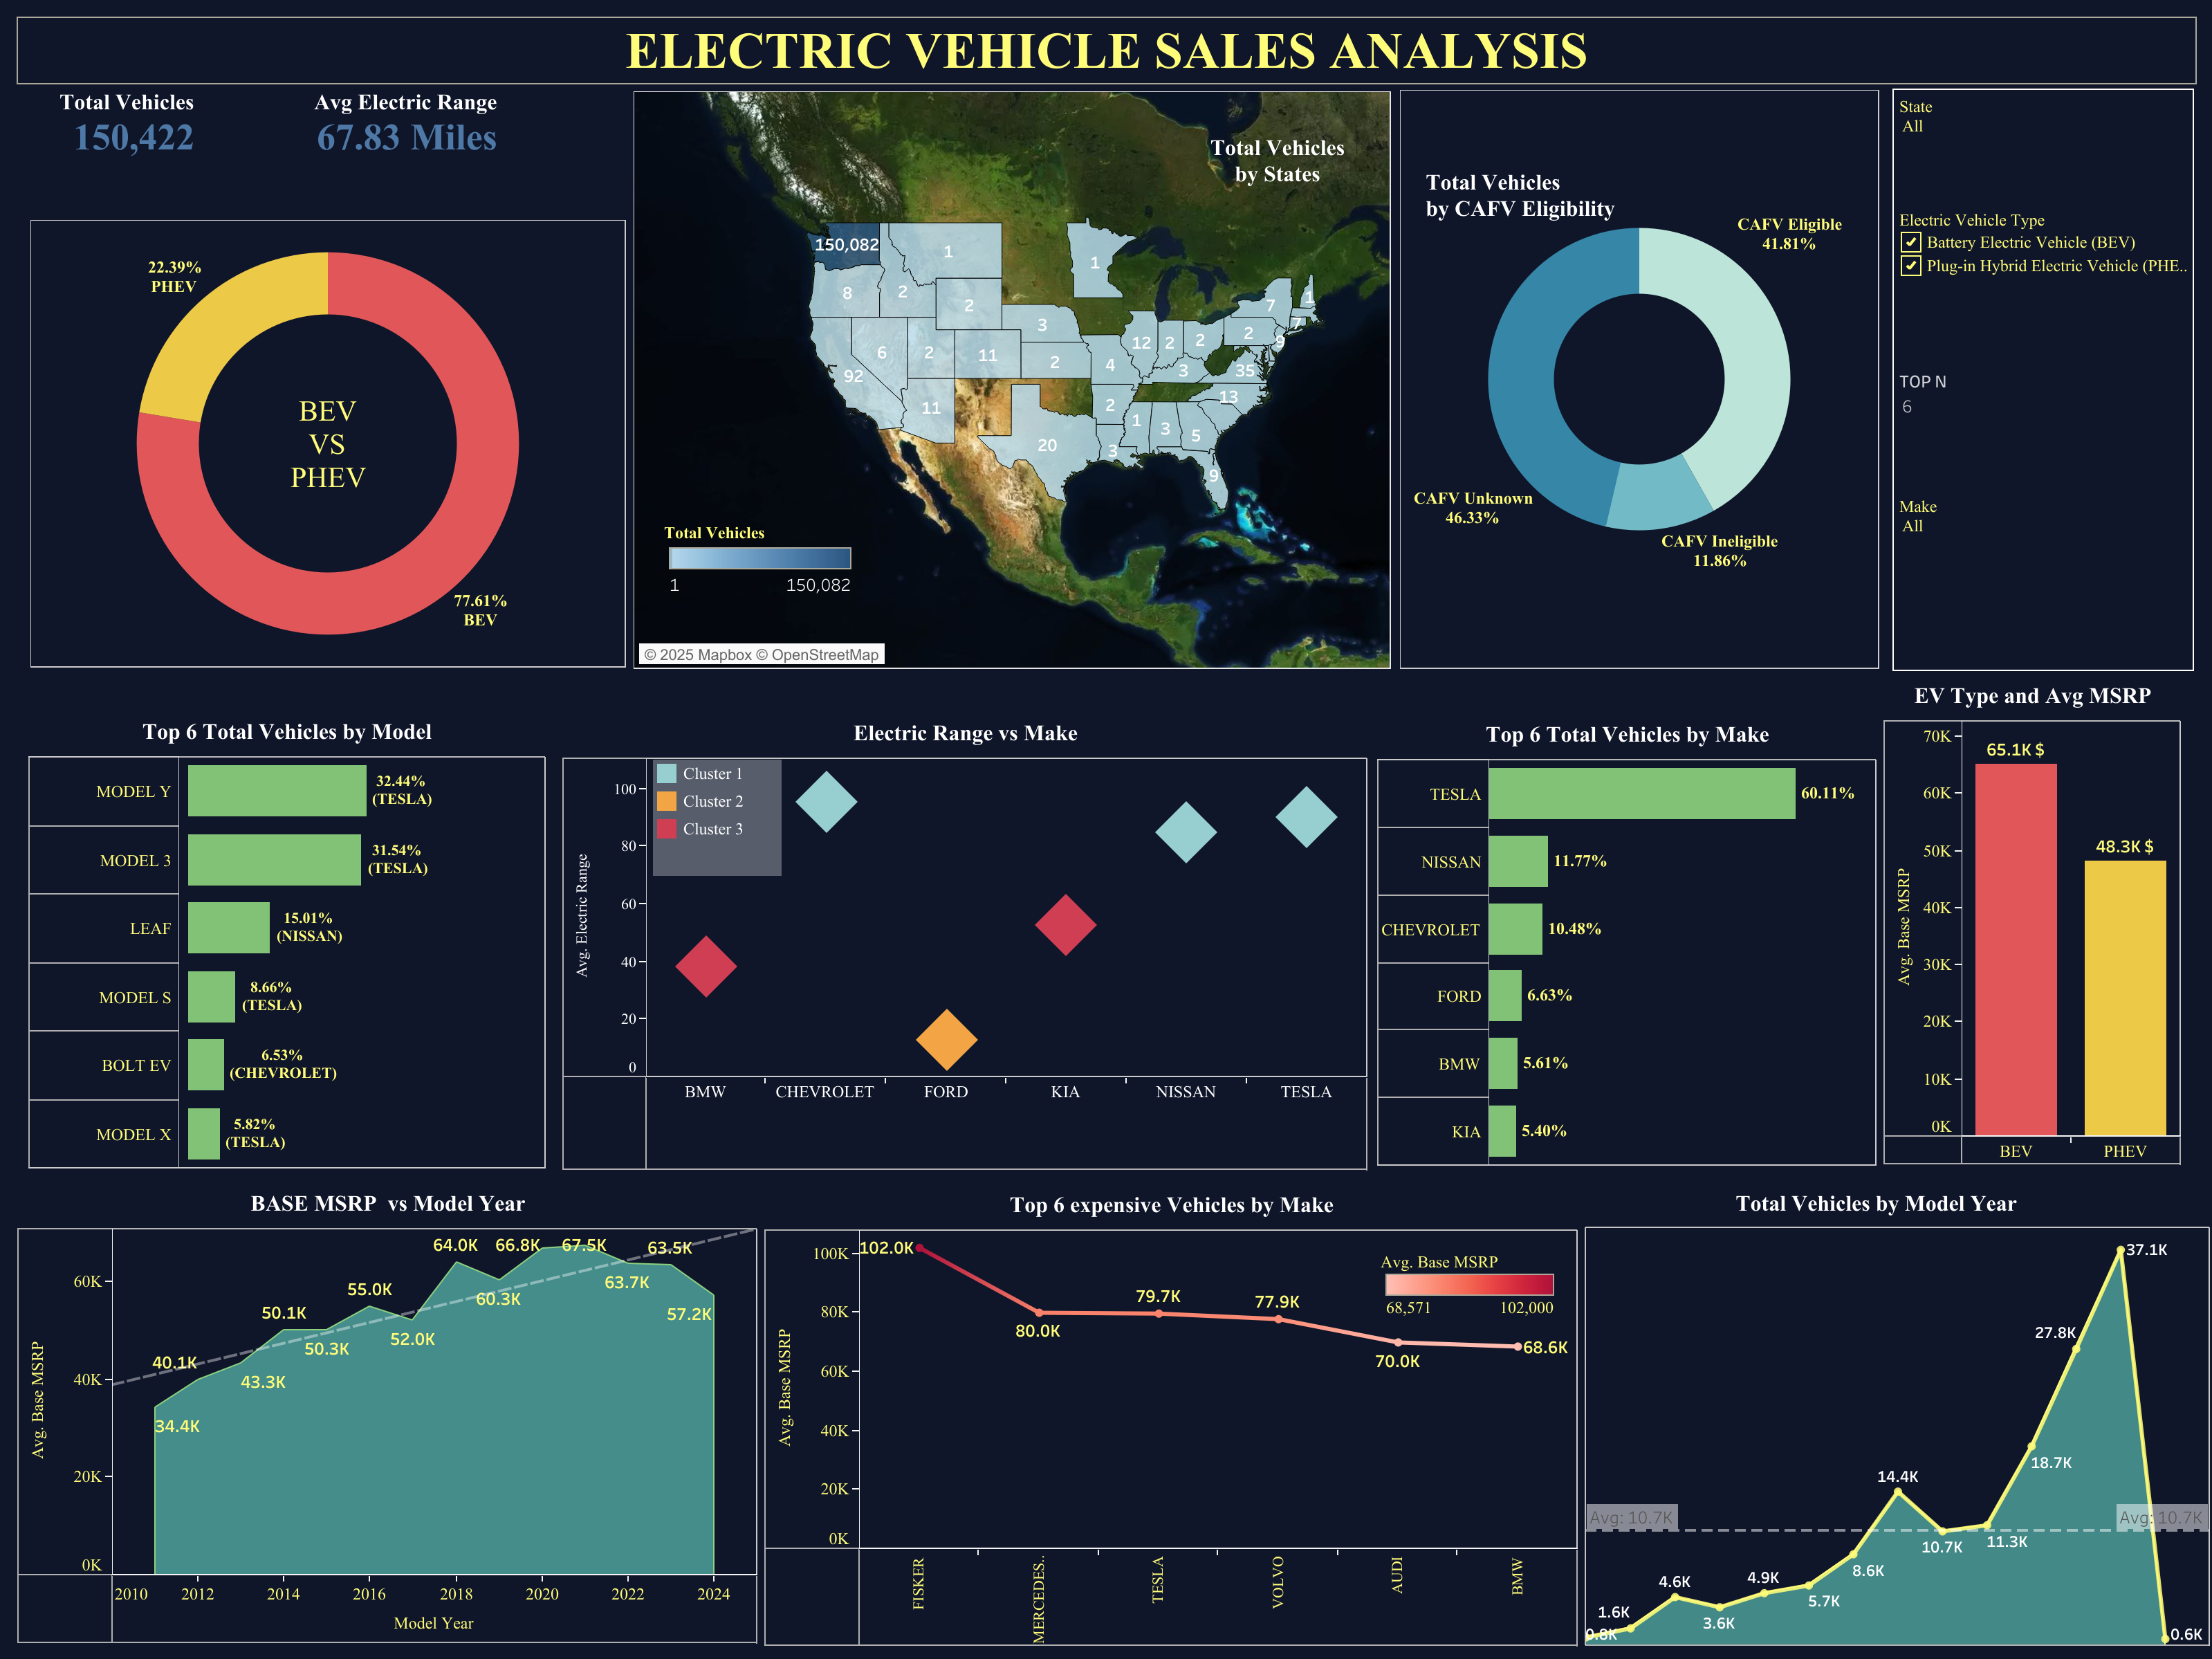

Layout of this report page (visuals, bound fields, positions):
{"tool":"tableau","page":{"name":"Dashboard 1","canvas":[1600,1200],"ordinal":0},"visuals":[{"type":"title","box":[8,8,1584,57]},{"type":"worksheet","title":"Avg Electric Range","mark":"Automatic","box":[204,49,262,118]},{"type":"worksheet","title":"Total Vehicles","mark":"Automatic","box":[25,49.1,195,124.4]},{"type":"worksheet","title":"Total Vehicles by CAFV Eligibility","mark":"Pie","rows":["Calculation_440297297479802886","Calculation_440297297479802886"],"box":[1012,50,347,434]},{"type":"worksheet","title":"Total Vehicles by State","mark":"Multipolygon","box":[458,51,548,433]},{"type":"text","box":[839,55,169,121]},{"type":"filter","title":"Top N vehicles by Make","param":"[federated.048v4vp0ls1oum11lfkyl1vxdwj1].[none:State:nk]","box":[1369,65,216,82]},{"type":"text","box":[1028,66,206,150]},{"type":"worksheet","title":"BEV_PHEVpie","mark":"Pie","rows":["Calculation_440297297479802886","Calculation_440297297479802886"],"box":[22,144,431,339]},{"type":"filter","title":"Top N vehicles by Make","param":"[federated.048v4vp0ls1oum11lfkyl1vxdwj1].[none:Electric Vehicle Type:nk]","box":[1369,147,216,114]},{"type":"parameter","param":"[Parameters].[Parameter 1]","box":[1369,261,216,93]},{"type":"filter","title":"Top N vehicles by Make","param":"[federated.048v4vp0ls1oum11lfkyl1vxdwj1].[none:Make:nk]","box":[1369,354,216,85]},{"type":"legend","title":"Total Vehicles by State","param":"[federated.048v4vp0ls1oum11lfkyl1vxdwj1].[usr:Calculation_16536719963865420:qk]","box":[480,372,140,84]},{"type":"worksheet","title":"EV Type and MSRP","mark":"Automatic","rows":["Base MSRP"],"cols":["Calculation_787637419078148098"],"box":[1362,487,215,355]},{"type":"worksheet","title":"Top N vehicles by Model","mark":"Automatic","rows":["Model"],"cols":["Calculation_16536719963865420"],"box":[21,513,374,332]},{"type":"worksheet","title":"Electric Range vs Make","mark":"Shape","rows":["Electric Range"],"cols":["Make"],"box":[407,514,582,332]},{"type":"worksheet","title":"Top N vehicles by Make","mark":"Automatic","rows":["Make"],"cols":["Calculation_16536719963865420"],"box":[996,515,361,328]},{"type":"legend","title":"Electric Range vs Make","param":"[federated.048v4vp0ls1oum11lfkyl1vxdwj1].[none:AdhocCluster:1:ok]","box":[472,549,93,84]},{"type":"text","box":[1252,849,330,40]},{"type":"worksheet","title":"MSRP wrt Model Year ","mark":"Area","rows":["Base MSRP"],"cols":["Model Year"],"box":[13,854,535,334]},{"type":"worksheet","title":"Top N expensive Vehicles by Make","mark":"Line","rows":["Base MSRP"],"cols":["Make"],"box":[553,855,588,335]},{"type":"worksheet","title":"Total Vehicles by Model Year","mark":"Area","rows":["Calculation_16536719963865420","Calculation_16536719963865420"],"cols":["Model Year"],"box":[1146,872,452,318]},{"type":"legend","title":"Top N expensive Vehicles by Make","param":"[federated.048v4vp0ls1oum11lfkyl1vxdwj1].[avg:Base MSRP:qk]","box":[998,901,130,68]}]}

Visuals, with their boxes in screenshot pixels (x1, y1, x2, y2), scaled from the page's 1600x1200 canvas onto the 2212x1659 screenshot:
title: 11/11/2201/90
"Avg Electric Range" worksheet: 282/68/644/231
"Total Vehicles" worksheet: 35/68/304/240
"Total Vehicles by CAFV Eligibility" worksheet (Pie marks): 1399/69/1879/669
"Total Vehicles by State" worksheet (Multipolygon marks): 633/71/1391/669
text: 1160/76/1394/244
"Top N vehicles by Make" filter: 1892/90/2191/203
text: 1421/91/1706/299
"BEV_PHEVpie" worksheet (Pie marks): 30/199/626/668
"Top N vehicles by Make" filter: 1892/203/2191/361
parameter: 1892/361/2191/489
"Top N vehicles by Make" filter: 1892/489/2191/607
"Total Vehicles by State" legend: 663/514/857/630
"EV Type and MSRP" worksheet: 1883/673/2180/1164
"Top N vehicles by Model" worksheet: 29/709/546/1168
"Electric Range vs Make" worksheet (Shape marks): 562/711/1367/1170
"Top N vehicles by Make" worksheet: 1377/712/1876/1166
"Electric Range vs Make" legend: 652/759/781/875
text: 1731/1174/2187/1229
"MSRP wrt Model Year " worksheet (Area marks): 18/1181/757/1642
"Top N expensive Vehicles by Make" worksheet (Line marks): 764/1182/1578/1645
"Total Vehicles by Model Year" worksheet (Area marks): 1585/1206/2209/1645
"Top N expensive Vehicles by Make" legend: 1380/1245/1560/1339
